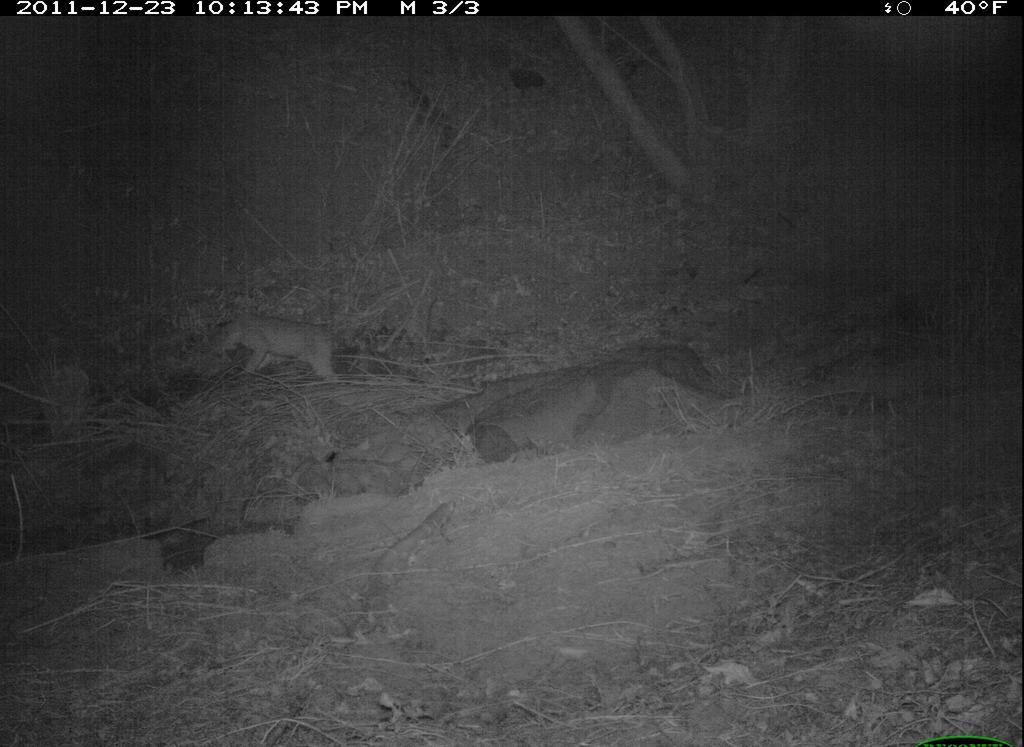bobcat: (204, 301, 360, 388)
